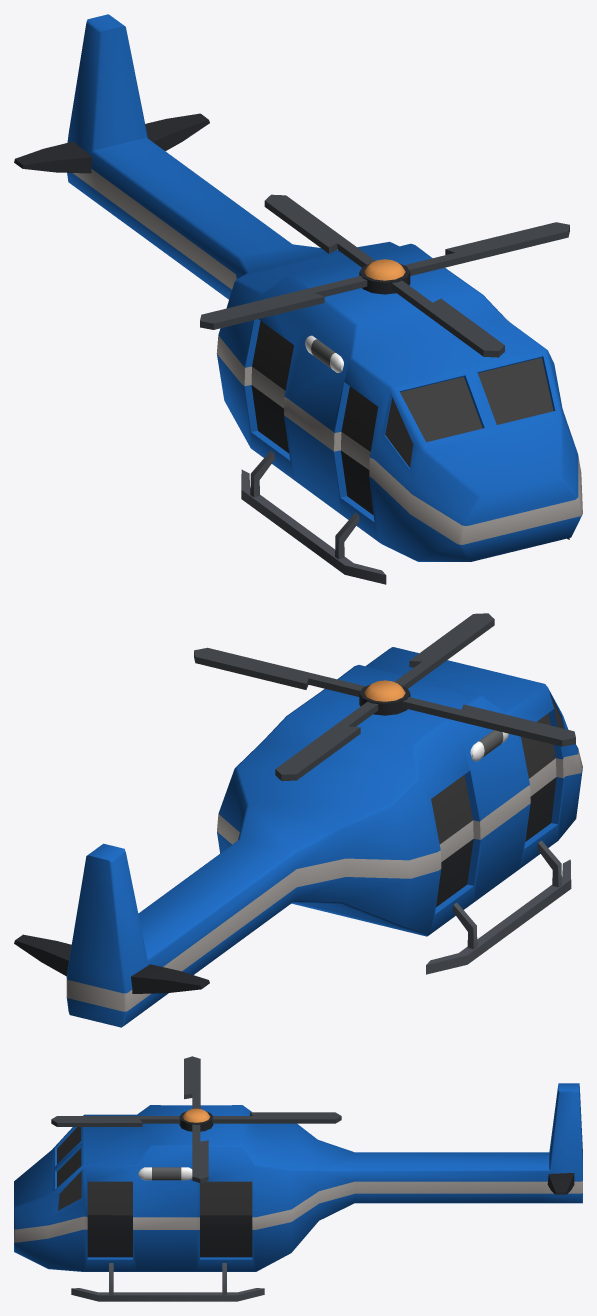
File: Helicopter_2.fbx
The picture shows the model from 3 angles, top to bottom: view 1: azimuth 30°, elevation 25°; view 2: azimuth 150°, elevation 25°; view 3: azimuth 270°, elevation 25°; orthographic projection. The views are drawn at different scales.
Parts seen in each view (by area): view 1: Helicopter_2; view 2: Helicopter_2; view 3: Helicopter_2.
Boxes of the visible parts, x1,y1,x2,y2 form: Helicopter_2: (14,14,582,584); Helicopter_2: (14,613,582,1027); Helicopter_2: (14,1056,582,1301).
Bounding box in the file's own units: 490 × 332 × 960.
